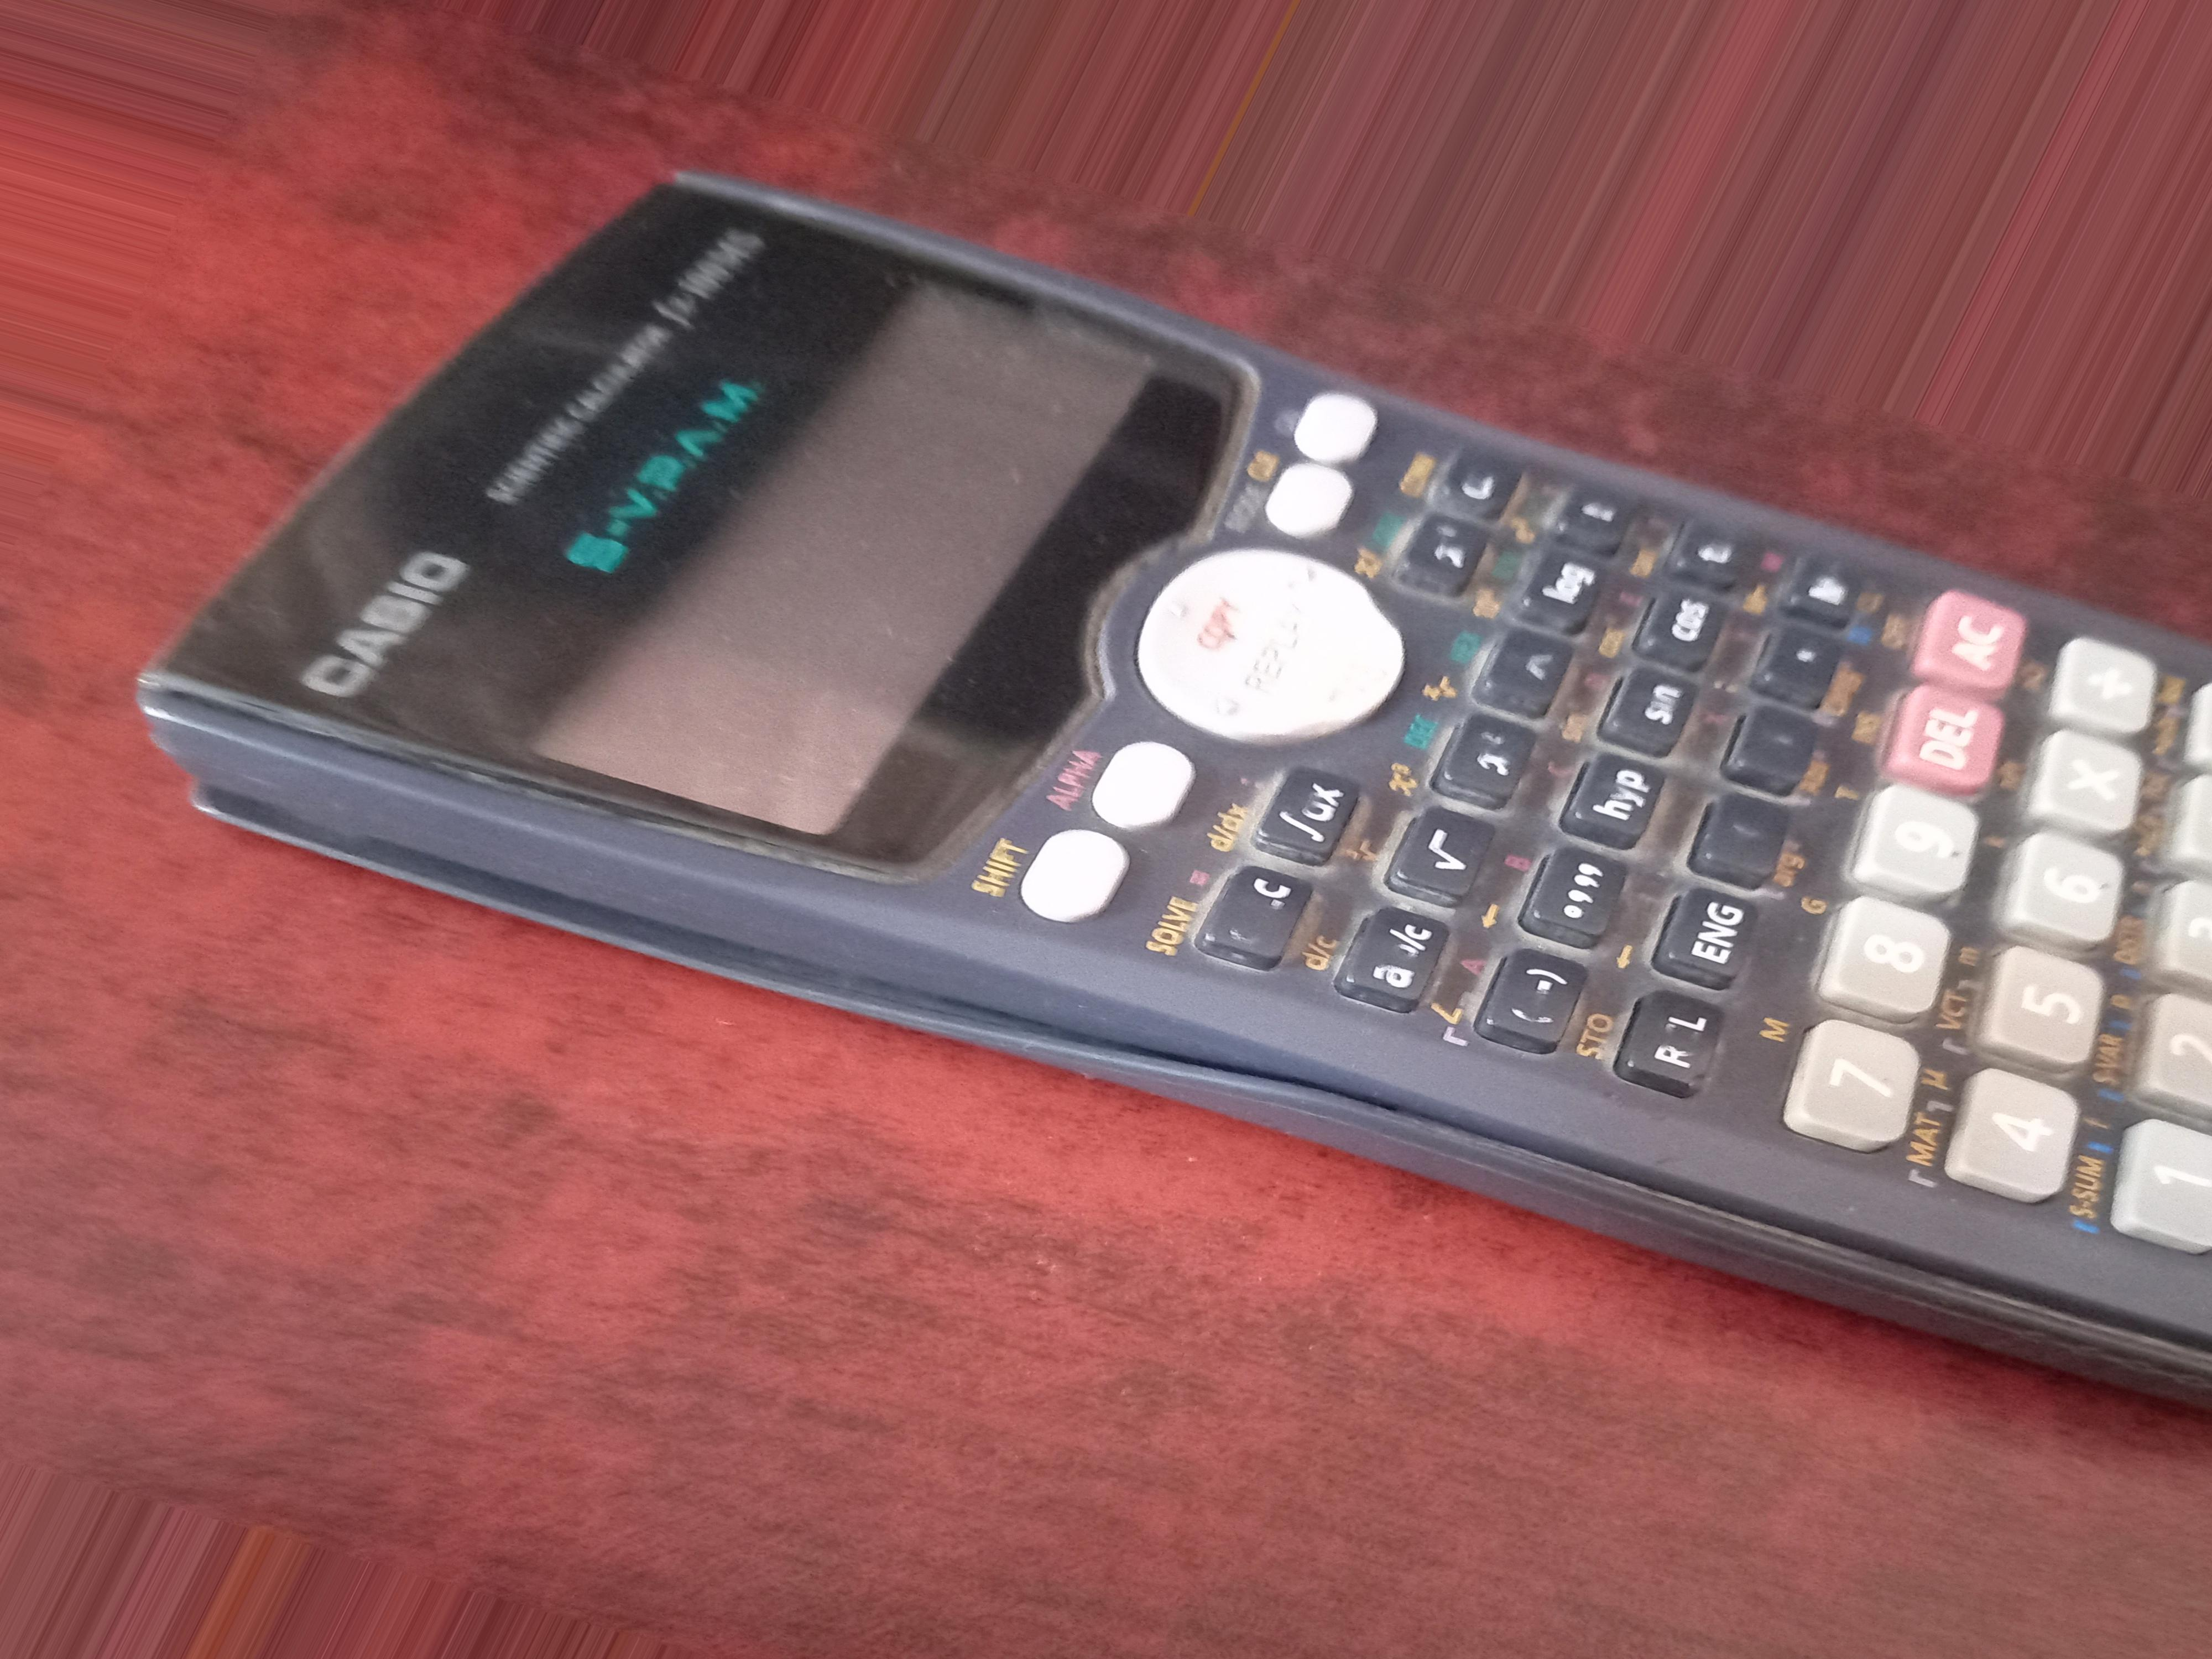calculator: (193, 228, 2212, 1258)
